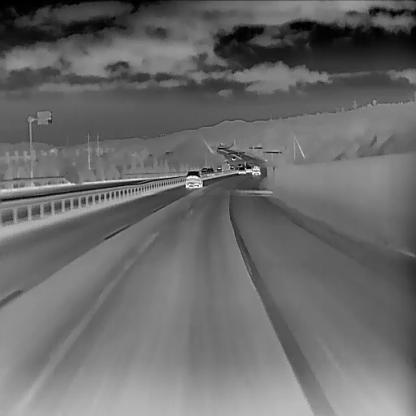car: (184, 170, 202, 188), (251, 165, 261, 175), (206, 166, 214, 176), (199, 166, 208, 174), (237, 166, 245, 174), (245, 164, 252, 173)
